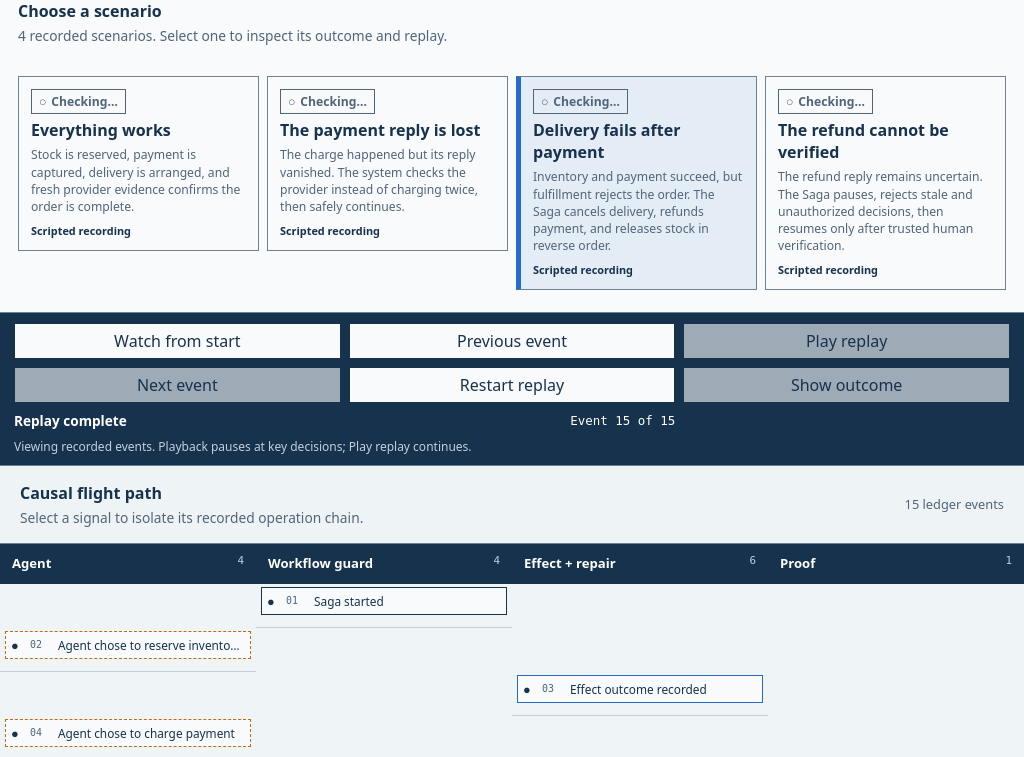
Test: RecorderWorkbench › keeps the recorded outcome stable while replaying historical evidence
(page scrolled)
Click the button "Restart replay".
click(512, 385)  # box [349, 367, 675, 403]
(page scrolled)
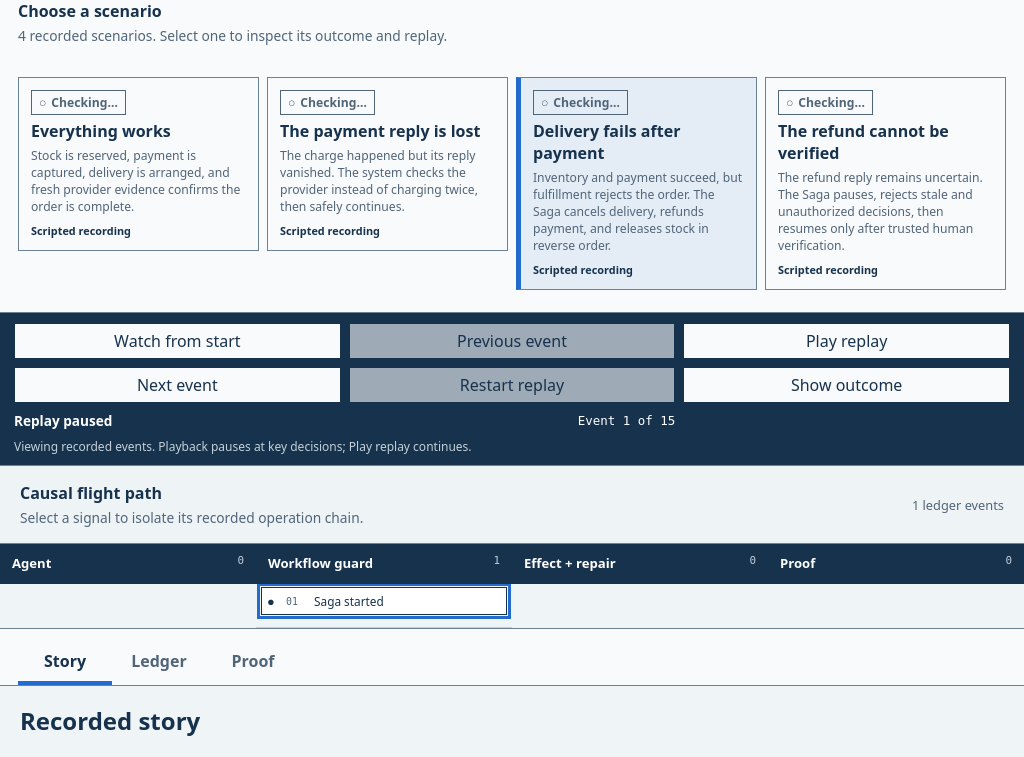
Check: the list named "Ledger events in causal order" shows "Saga started", box [261, 587, 507, 615]
Check: the text "Replay paused" is shown, box [14, 411, 112, 430]
Click the button "Show outcome".
click(847, 385)  # box [683, 367, 1010, 403]
(page scrolled)
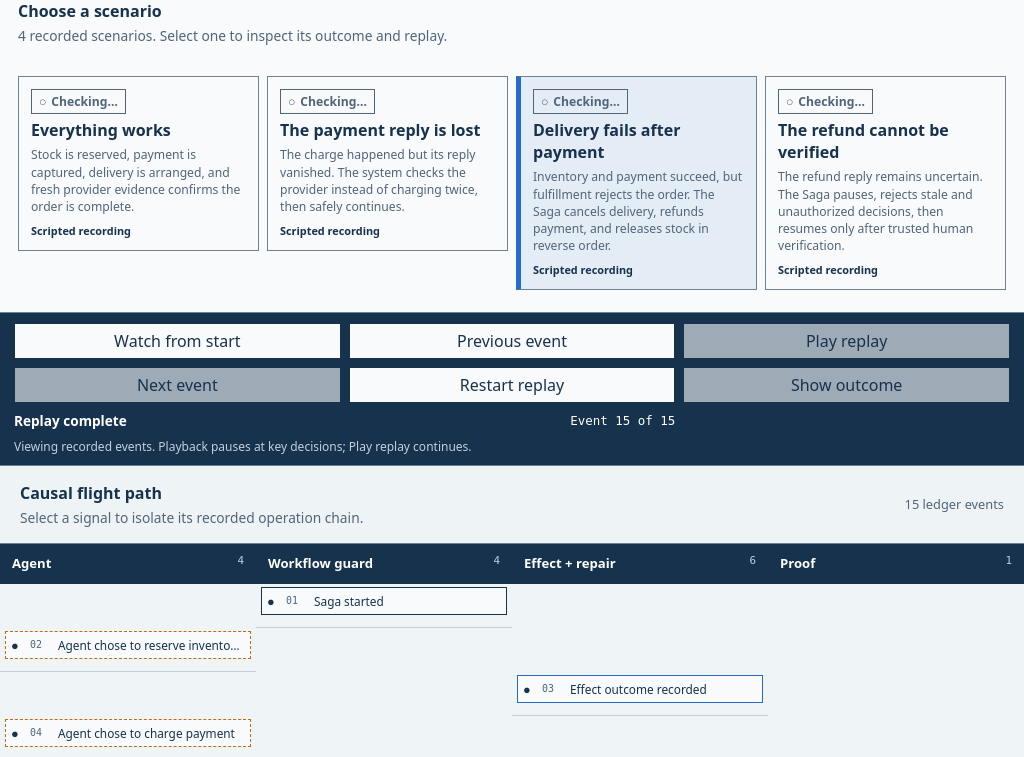
Check: the text "Replay complete" is shown, box [14, 411, 127, 430]
Check: the button "Show outcome" is disabled, box [683, 367, 1010, 403]
